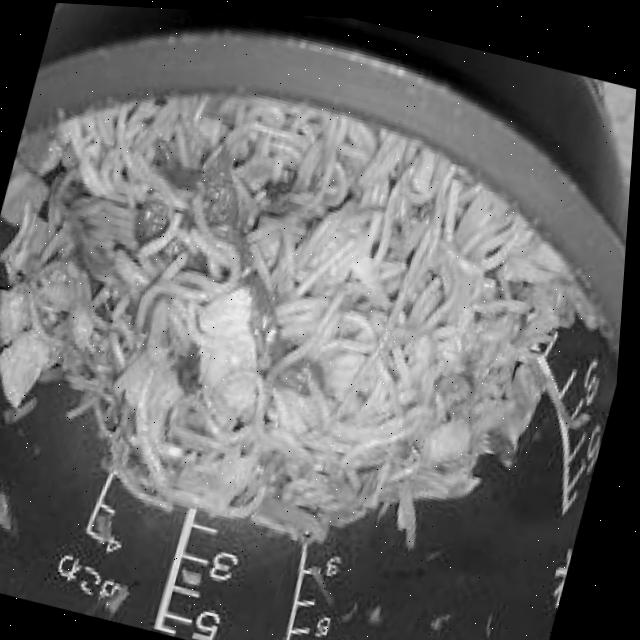面条主食: (0, 40, 614, 602)
